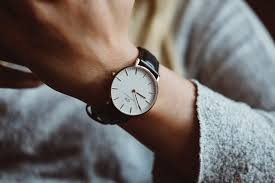clock: (111, 66, 156, 116)
